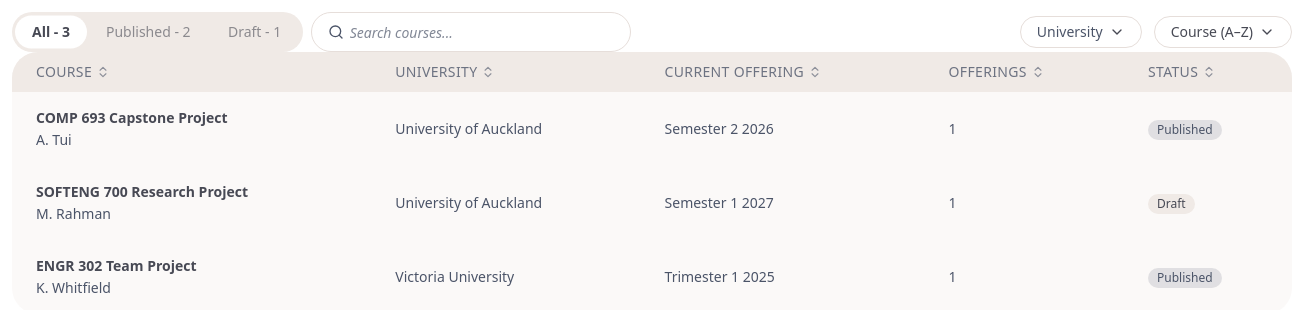
CoursesToolbar › keeps the sort dropdown in sync when a column header is clicked instead
The width and height of the screenshot is (1304, 310).
Click the button with aria-label "Sort by Current offering" at x=743, y=72, box [656,58,830,86]
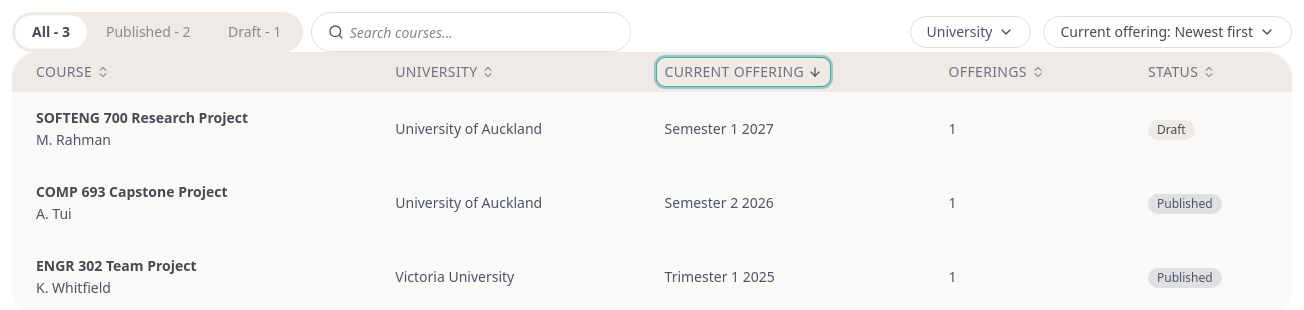
Check: the dropdown named "Sort" shows "Current offering: Newest first", box [1043,16,1292,48]
